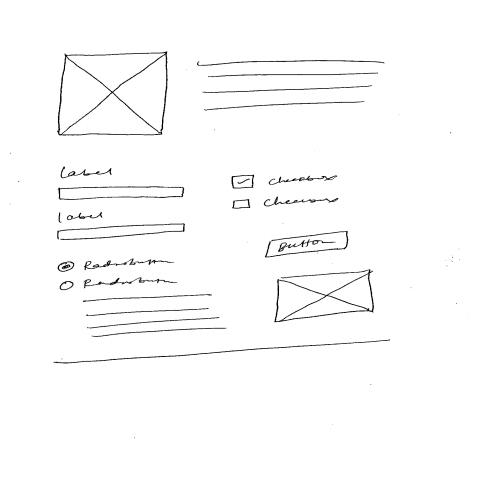Button: (265, 231, 349, 259)
Check Box: (231, 174, 337, 190), (231, 196, 341, 211)
Image: (57, 51, 170, 138), (273, 269, 376, 324)
Label: (61, 167, 114, 180), (58, 212, 104, 222)
Paragraph: (195, 61, 387, 113), (83, 293, 222, 339)
Radio Button: (58, 276, 182, 292), (58, 258, 175, 274)
Textbox: (55, 224, 186, 242), (58, 187, 187, 202)
